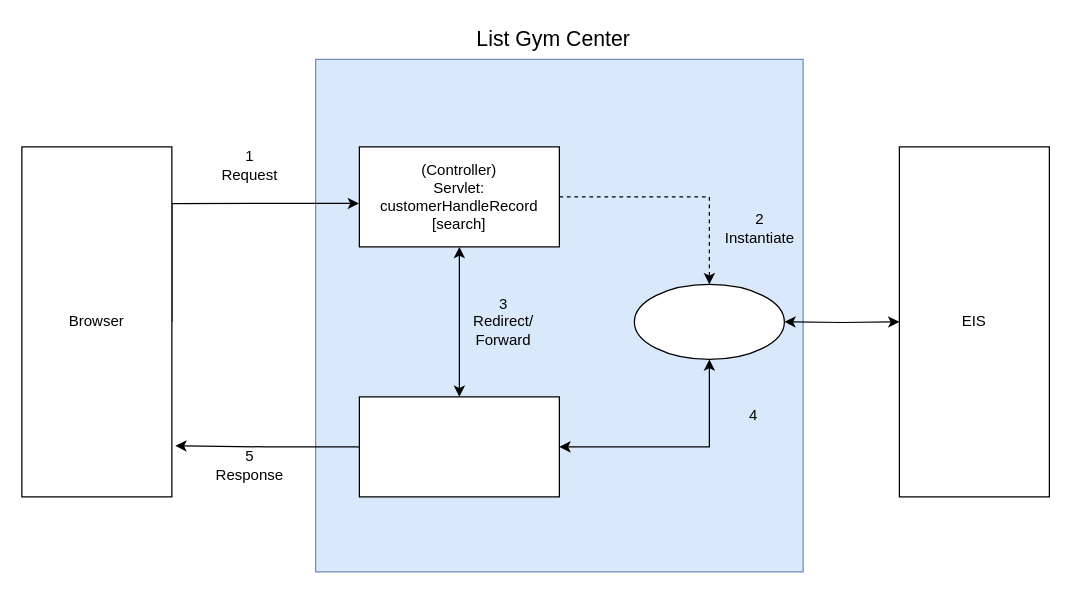
Image size: 1071x594. Some labels were removed from this diagram. The centre of each missing label's shape, as x and y in pixels:
"(Model) Java Bean: GymBean" belongs at pixel 708 321.
"(View) JSP: customer_listTrainers.jsp" belongs at pixel 458 446.
